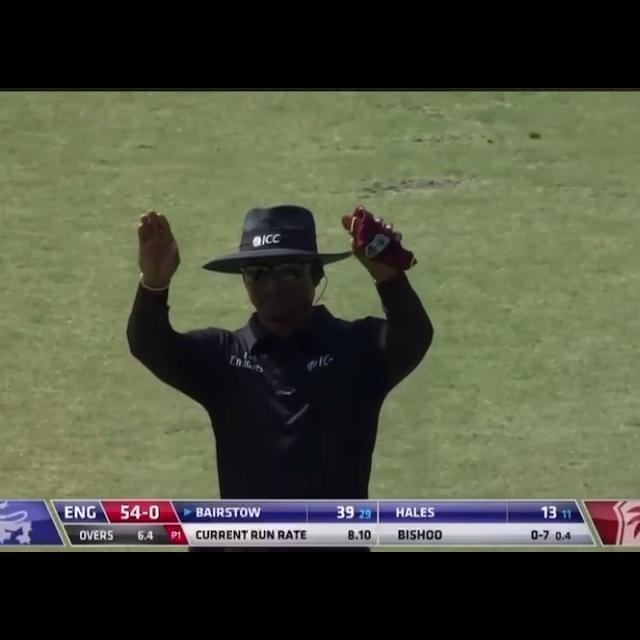umpire: (116, 140, 438, 500)
